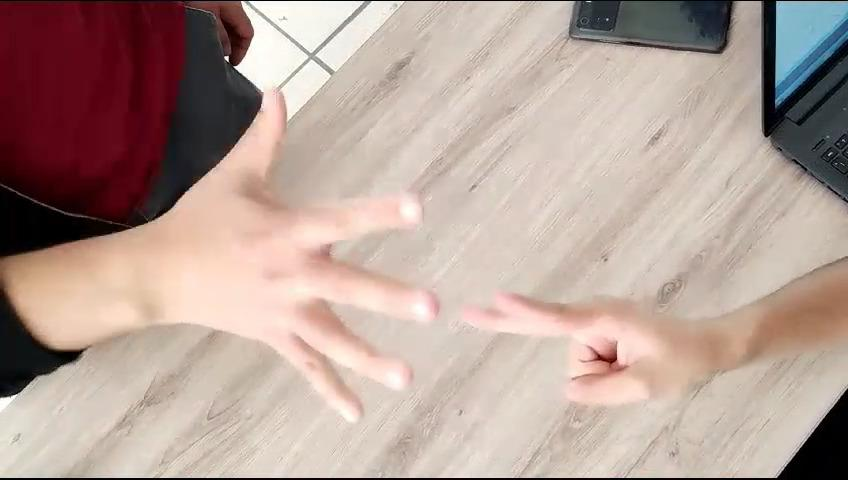Scissor: (449, 227, 695, 435)
Stone: (154, 62, 444, 478)
